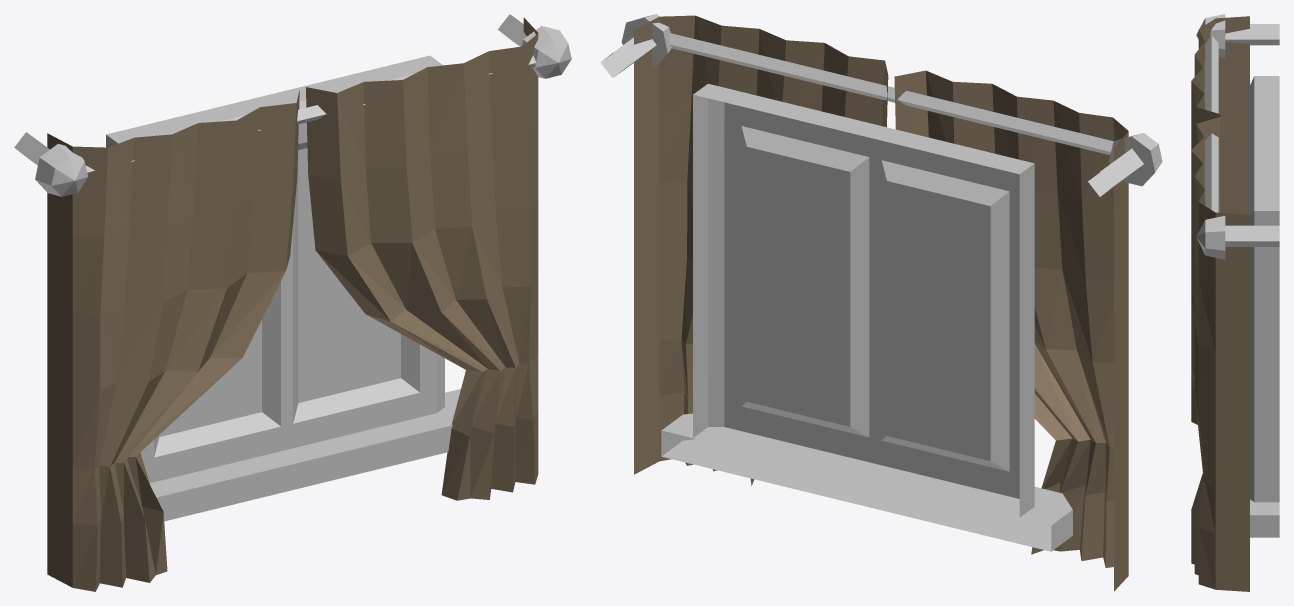
File: NW_CITY_WINDOW_WOOD_IN_02.OBJ
3 renders of one model, left to right at view 1: azimuth 30°, elevation 25°; view 2: azimuth 150°, elevation 25°; view 3: azimuth 270°, elevation 25°, orthographic. The views are drawn at different scales.
Visible parts, largest first — view 1: NW_CITY_WINDOW_WOOD_IN_02; view 2: NW_CITY_WINDOW_WOOD_IN_02; view 3: NW_CITY_WINDOW_WOOD_IN_02.
Boxes of the visible parts, bbox=[...] form: NW_CITY_WINDOW_WOOD_IN_02: bbox=[14, 14, 571, 591]; NW_CITY_WINDOW_WOOD_IN_02: bbox=[600, 14, 1162, 591]; NW_CITY_WINDOW_WOOD_IN_02: bbox=[1191, 14, 1279, 591].
Size of the model in its own units: 2.19 by 1.75 by 0.3711.
